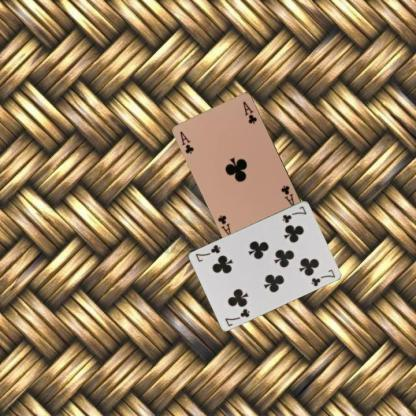7c: (222, 306, 251, 327), (280, 203, 308, 224)
Ac: (178, 128, 196, 156), (278, 183, 297, 209)
